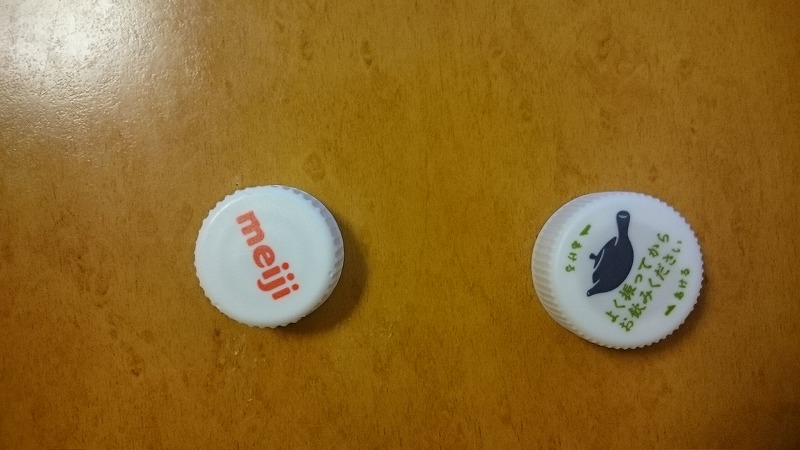A: (519, 177, 712, 358)
B: (186, 180, 349, 332)
